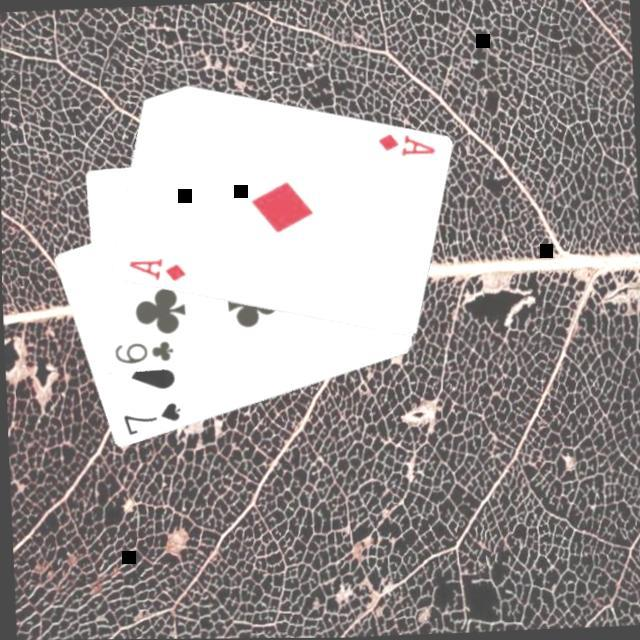6C: (110, 338, 176, 369)
7S: (119, 400, 184, 440)
AD: (374, 130, 438, 162), (125, 254, 188, 286)
